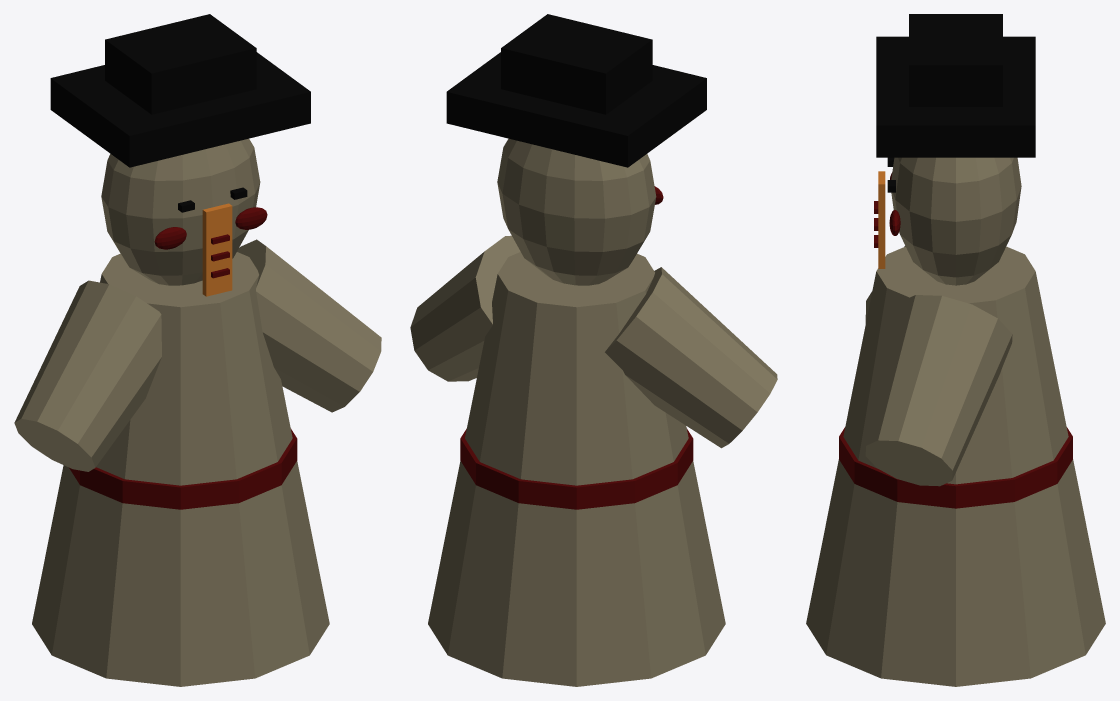
File: guardian.glb
3 views of the same model, side by side, from view 1: azimuth 30°, elevation 25°; view 2: azimuth 150°, elevation 25°; view 3: azimuth 270°, elevation 25° (orthographic).
Parts seen in each view (by area): view 1: 巡灯纸人; view 2: 巡灯纸人; view 3: 巡灯纸人.
Part boxes in pixels (bbox=[...]): 巡灯纸人: bbox=[14, 14, 381, 686]; 巡灯纸人: bbox=[410, 14, 777, 686]; 巡灯纸人: bbox=[806, 14, 1105, 686].
Size of the model in its own units: 0.876 by 1.38 by 0.64.
